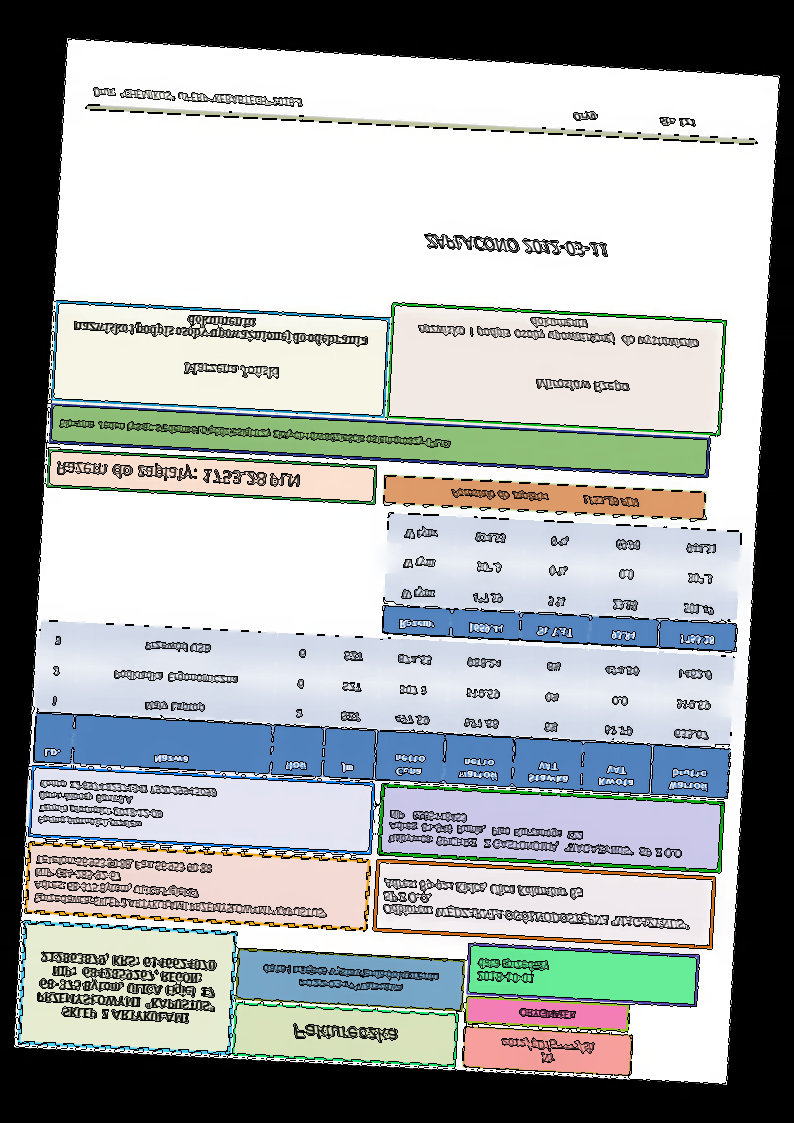Table: (31, 618, 737, 801), (380, 514, 744, 655)
TextBox: (30, 851, 330, 923), (380, 874, 693, 935), (387, 807, 687, 862), (32, 948, 219, 1030), (55, 414, 454, 452), (71, 306, 371, 351), (415, 309, 701, 353), (35, 777, 219, 836), (52, 457, 302, 493), (259, 960, 441, 999), (421, 230, 613, 264), (90, 84, 307, 112), (447, 484, 642, 512), (289, 1018, 400, 1049), (498, 1033, 596, 1068), (570, 109, 698, 131), (179, 359, 281, 385), (474, 955, 549, 989), (533, 374, 632, 399), (516, 1005, 575, 1024)
